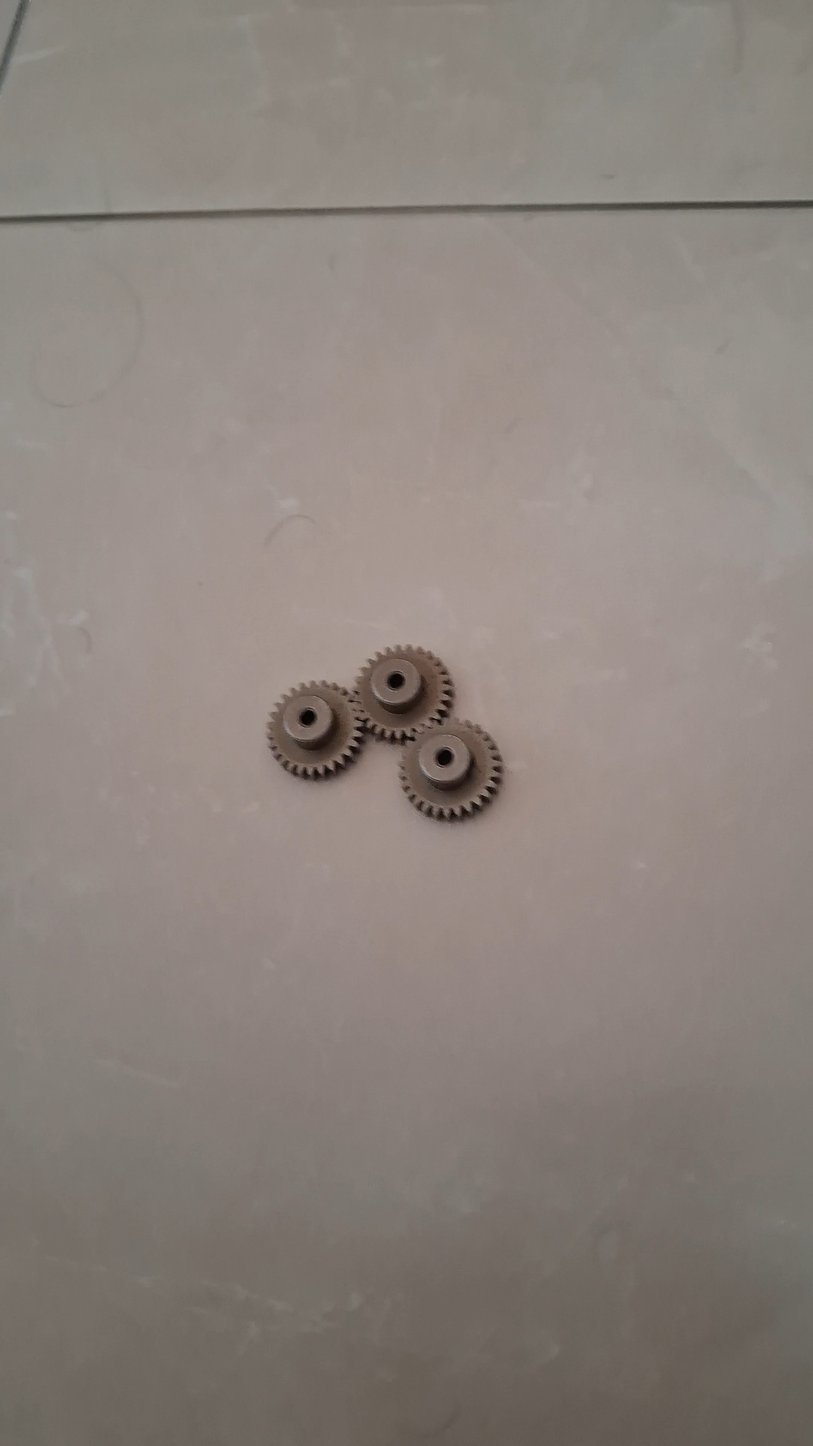spur gear: (399, 719, 503, 819), (267, 681, 364, 778), (356, 647, 453, 742)
